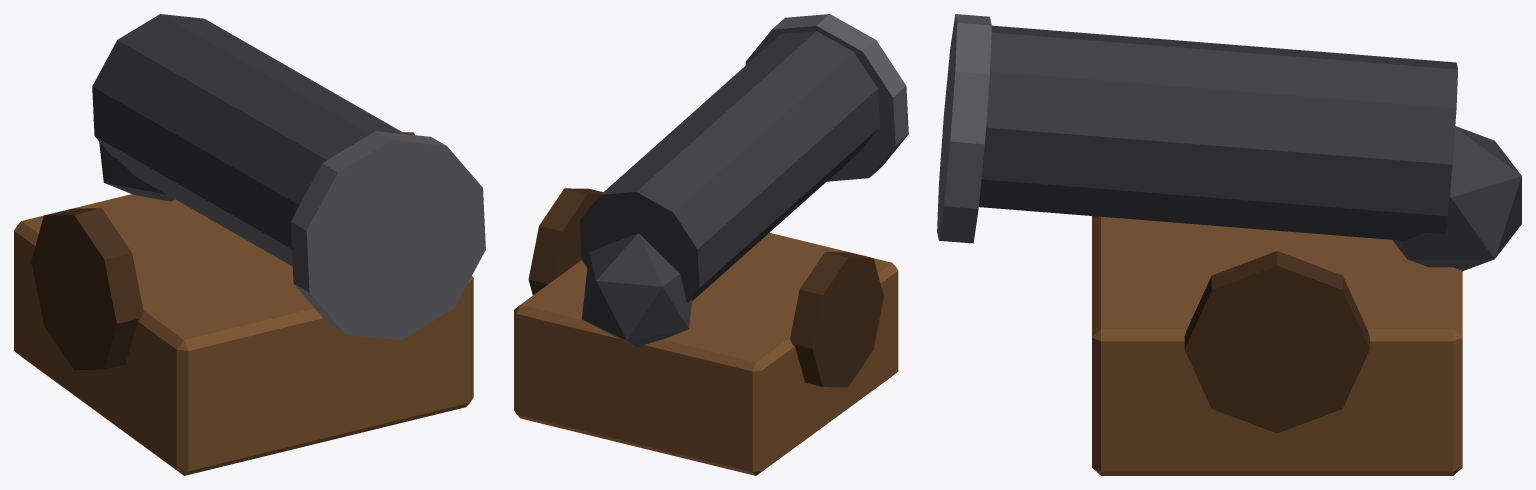
File: LightCannon.fbx
The picture shows the model from 3 angles, left to right: view 1: azimuth 30°, elevation 25°; view 2: azimuth 150°, elevation 25°; view 3: azimuth 270°, elevation 25°; orthographic projection. The views are drawn at different scales.
Parts seen in each view (by area): view 1: LightCannon; view 2: LightCannon; view 3: LightCannon.
Part boxes in pixels (x1=…): LightCannon: x1=14, y1=14, x2=485, y2=475; LightCannon: x1=514, y1=14, x2=908, y2=475; LightCannon: x1=937, y1=14, x2=1521, y2=475.
Size of the model in its own units: 3.66 by 3.61 by 5.05.
Materials: 1 (1 with a texture image).
